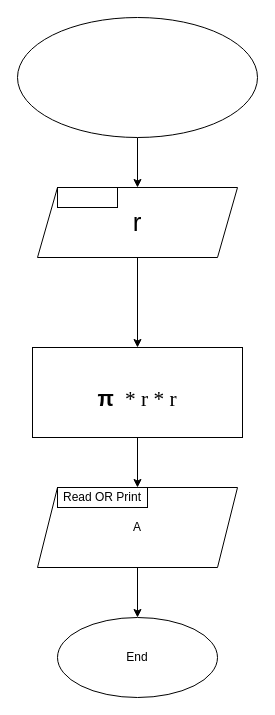
This 275x715 diagram has some shape labels left out. The box of each missing label's shape, as (x1, y1, x2, y2) in pixels:
Startt: (16, 16, 258, 138)
Write: (56, 186, 118, 208)
